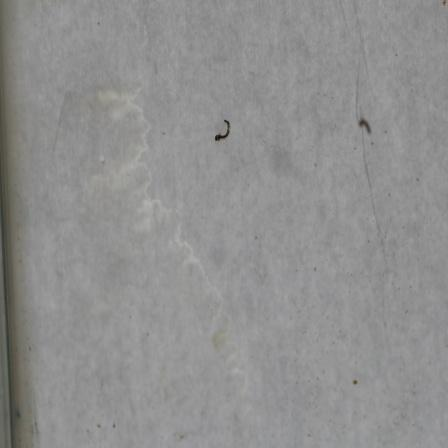Jentik-Nyamuk: (212, 114, 232, 143)
